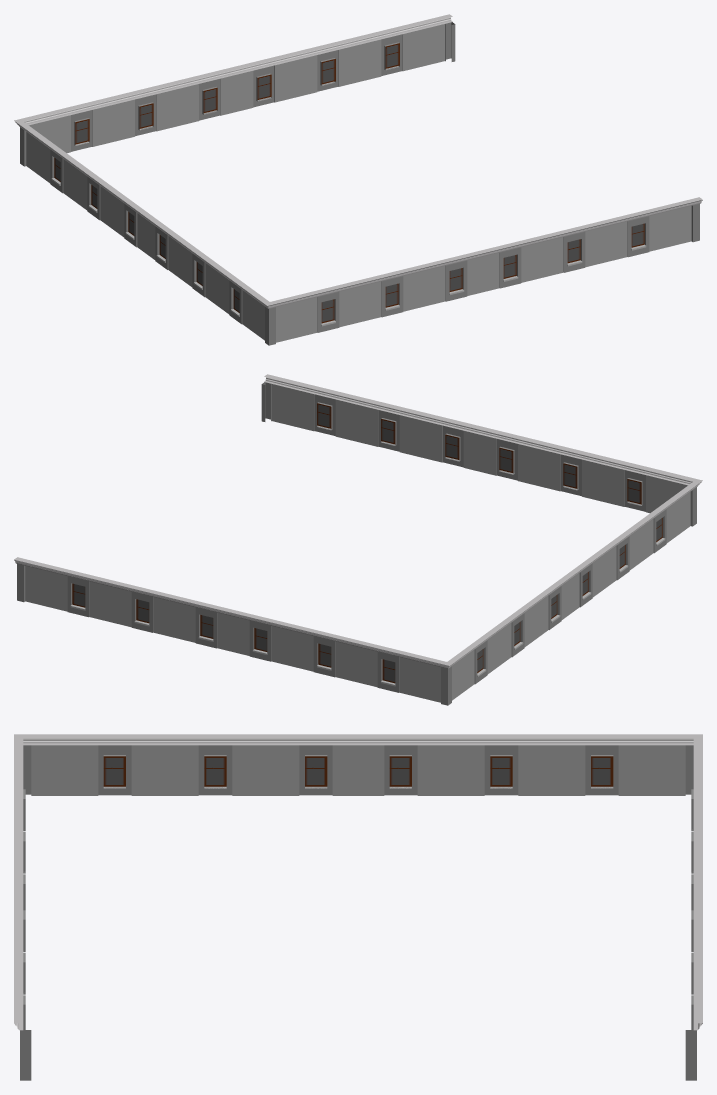
The model's file is BuildingBig4_2.fbx.
The picture shows the model from 3 angles, top to bottom: view 1: azimuth 30°, elevation 25°; view 2: azimuth 150°, elevation 25°; view 3: azimuth 270°, elevation 25°; orthographic projection. The views are drawn at different scales.
Visible parts, largest first — view 1: BuildingBig4_2; view 2: BuildingBig4_2; view 3: BuildingBig4_2.
Part boxes in pixels (x1,y1,x2,y2): BuildingBig4_2: (14,14,702,345); BuildingBig4_2: (14,374,702,705); BuildingBig4_2: (14,734,702,1080).
Size of the model in its own units: 6124 by 569 by 6168.
